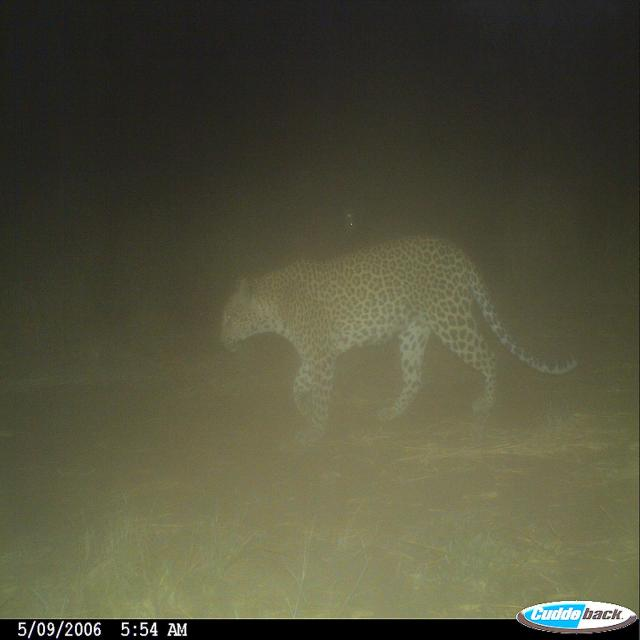Leopard: (222, 224, 597, 419)
